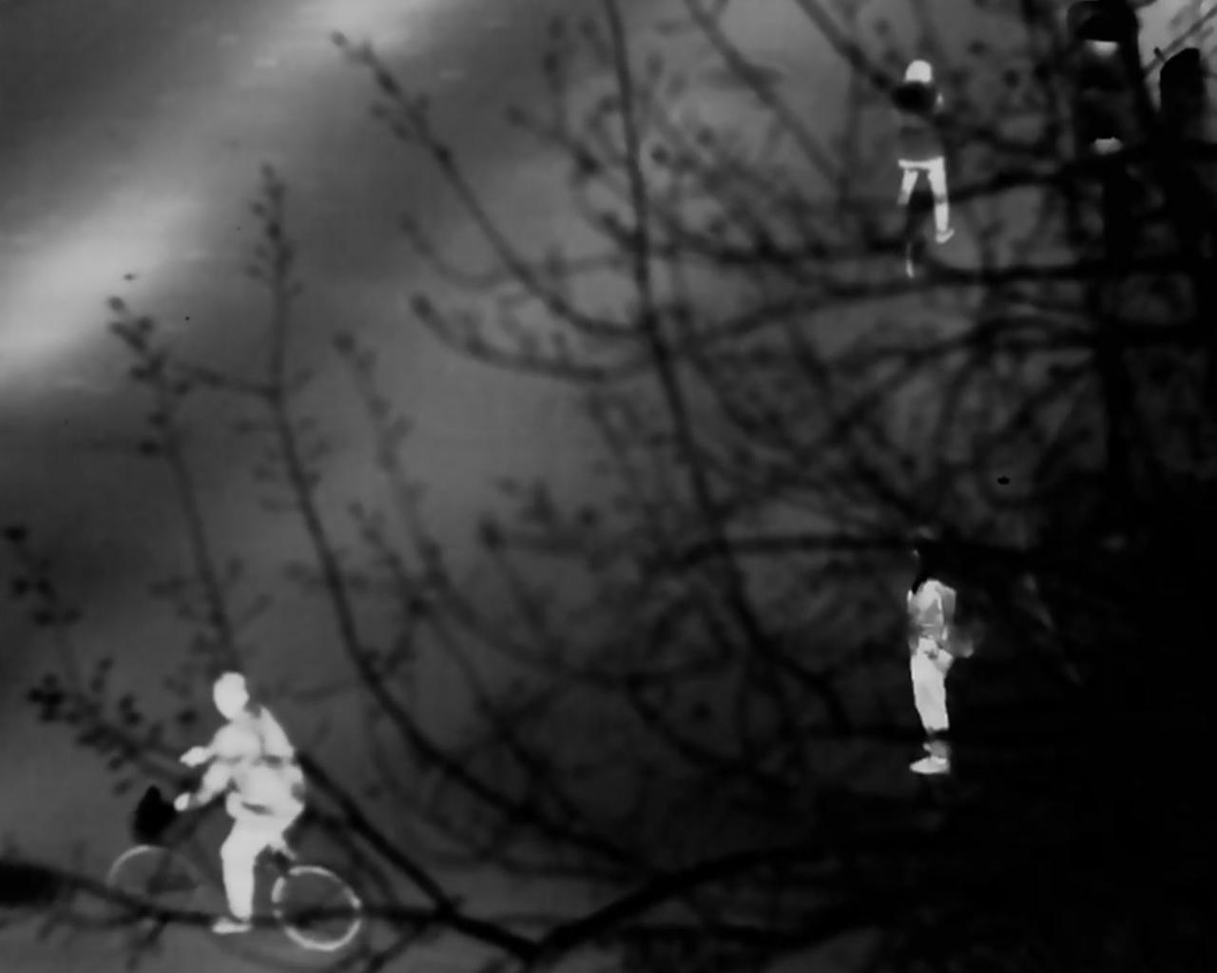person: (194, 668, 324, 950), (880, 531, 969, 792), (883, 53, 971, 271)
